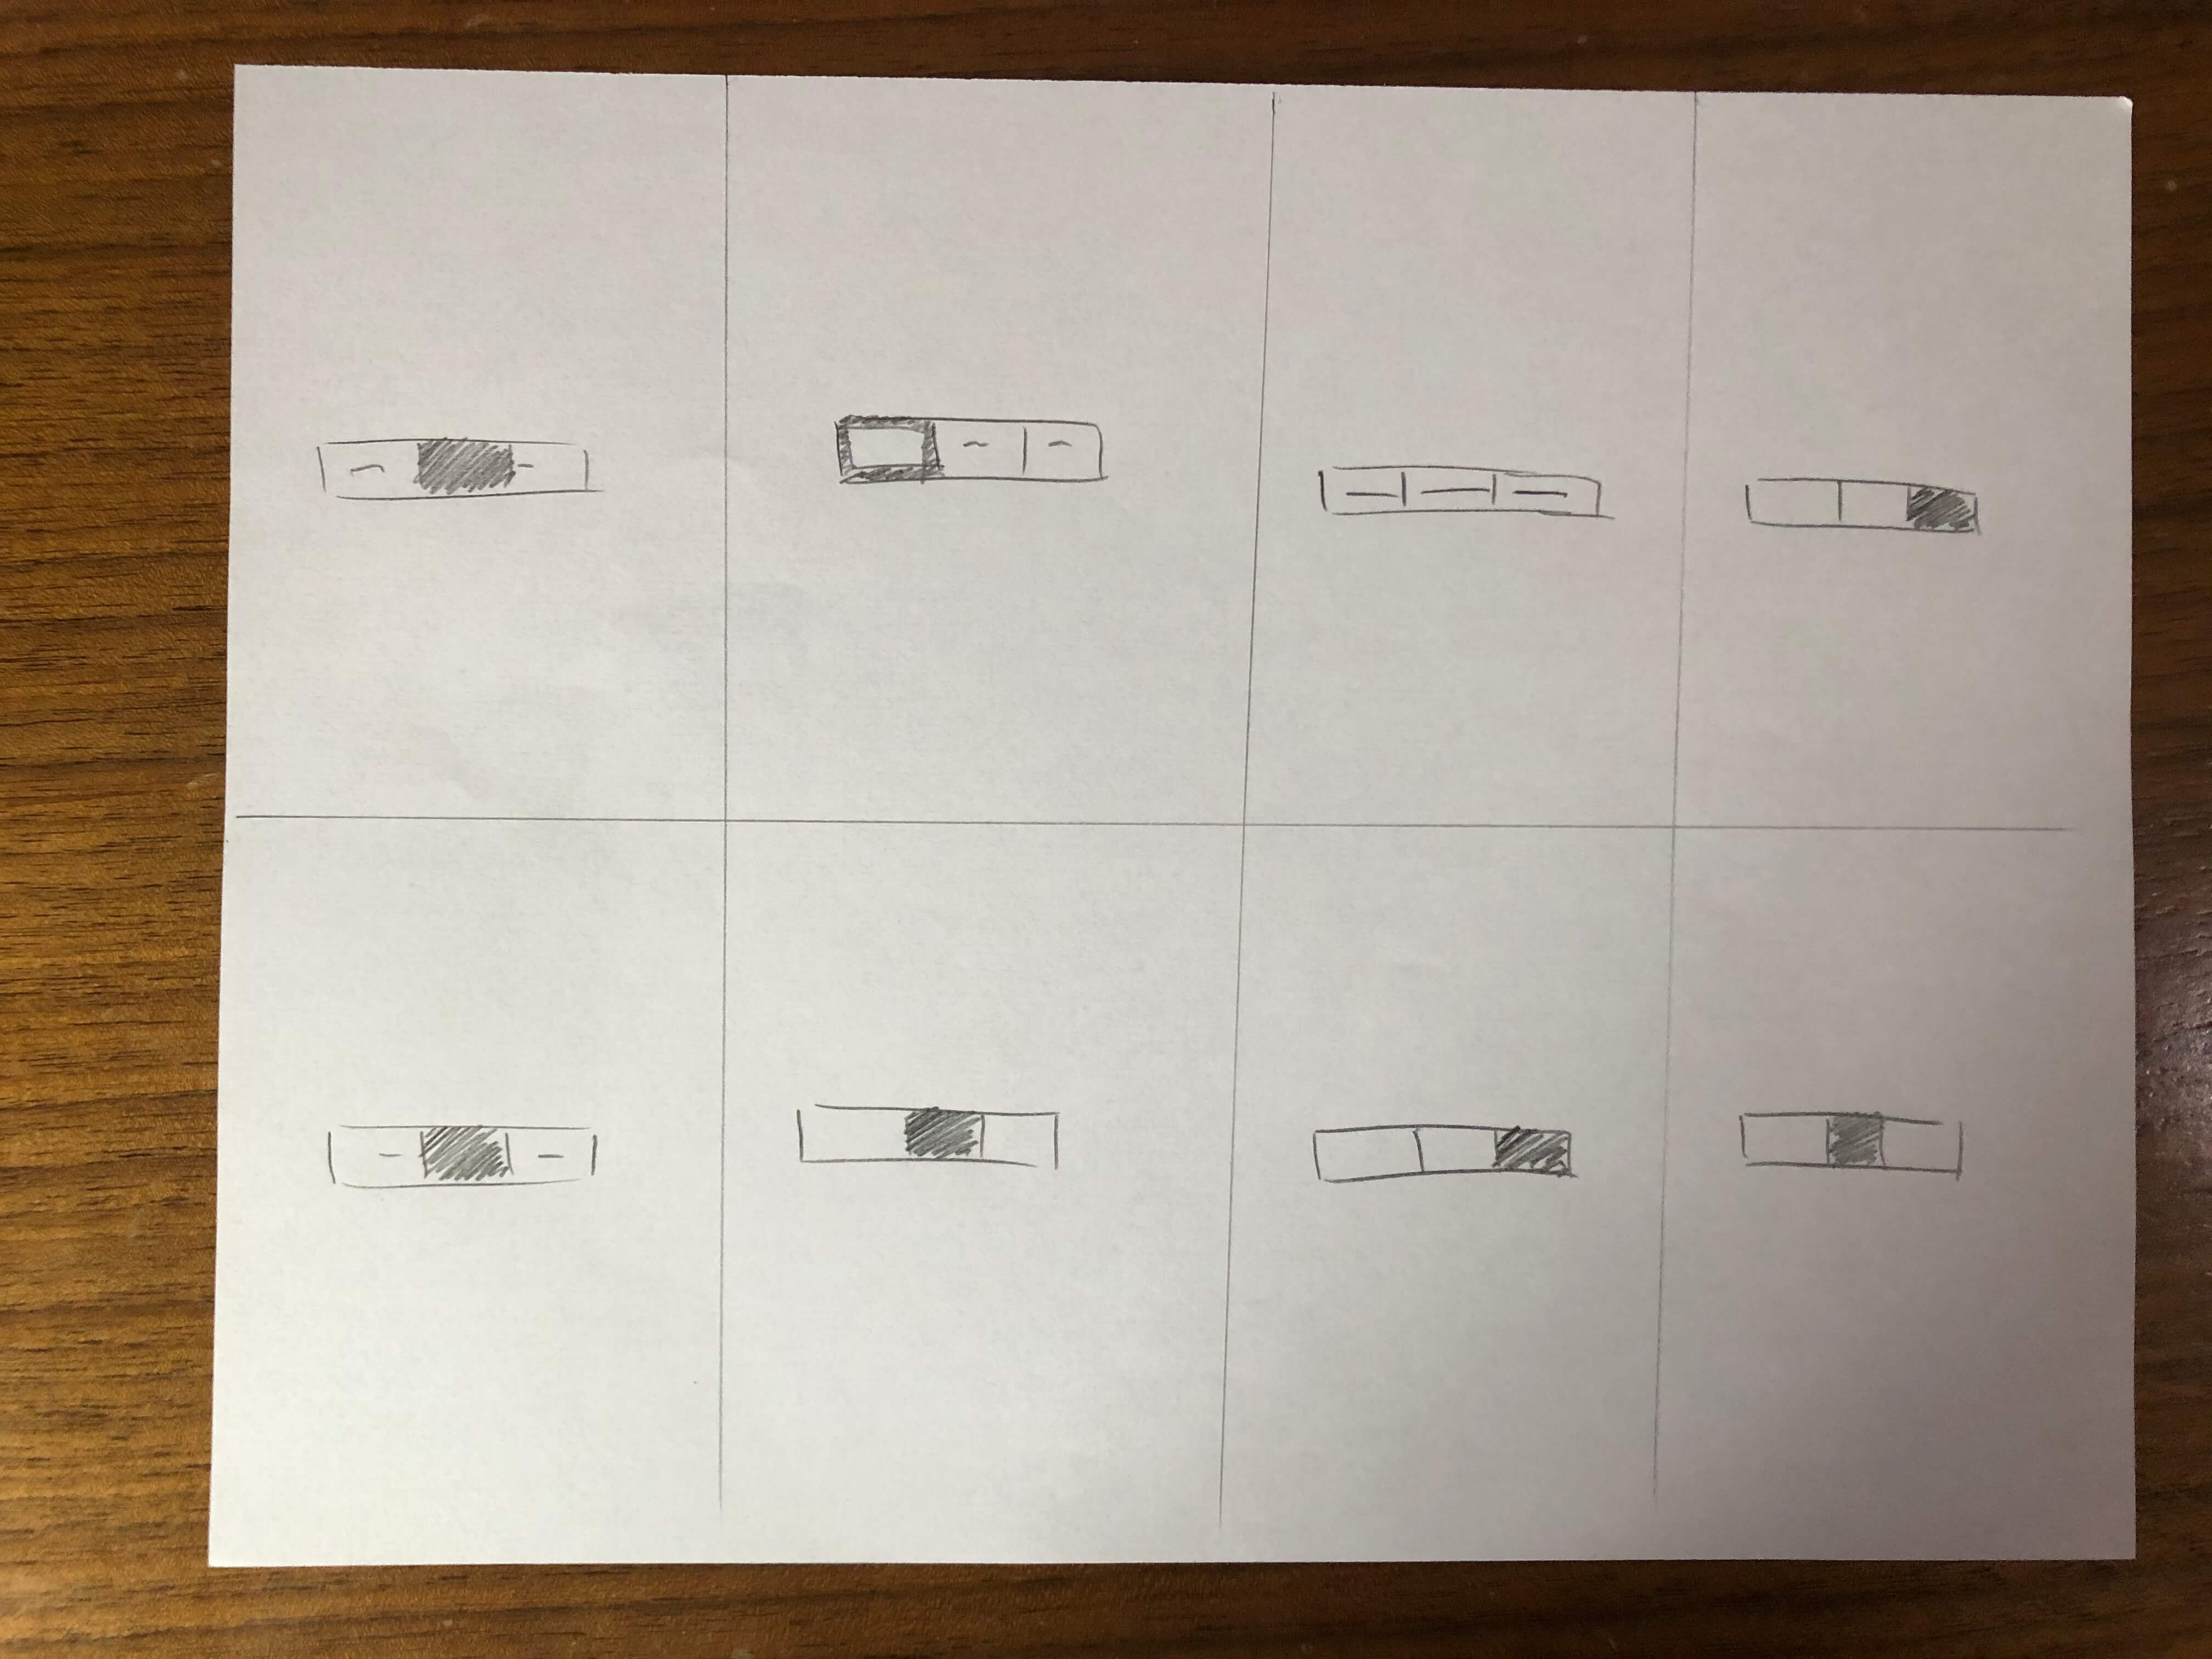radio-group: (786, 1082, 1076, 1192), (307, 425, 610, 518), (1312, 448, 1622, 537), (322, 1112, 617, 1202), (827, 403, 1106, 497), (1730, 457, 1994, 549), (1305, 1112, 1585, 1199), (1730, 1096, 1977, 1190)
